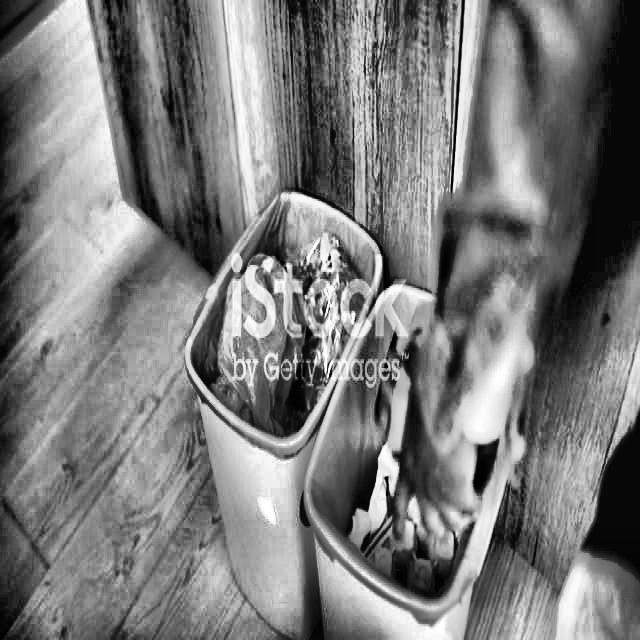Empty: (181, 193, 390, 444)
